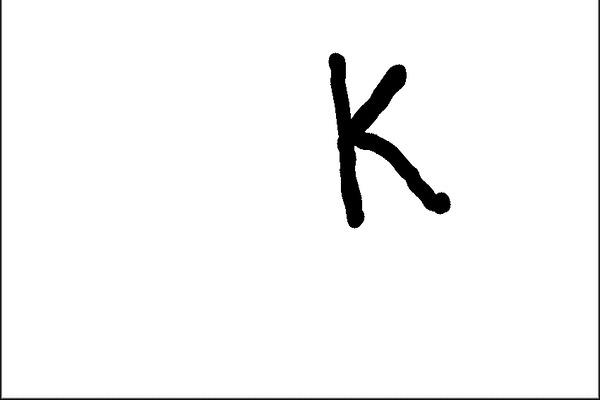K: (316, 47, 456, 229)
